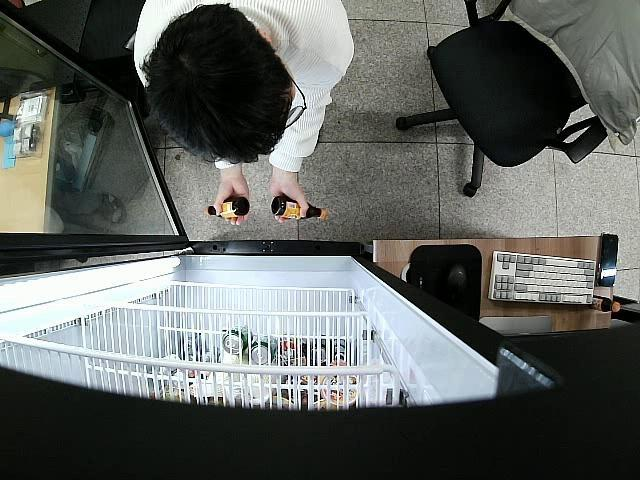17_vita500: (272, 196, 327, 221), (204, 194, 252, 220)
